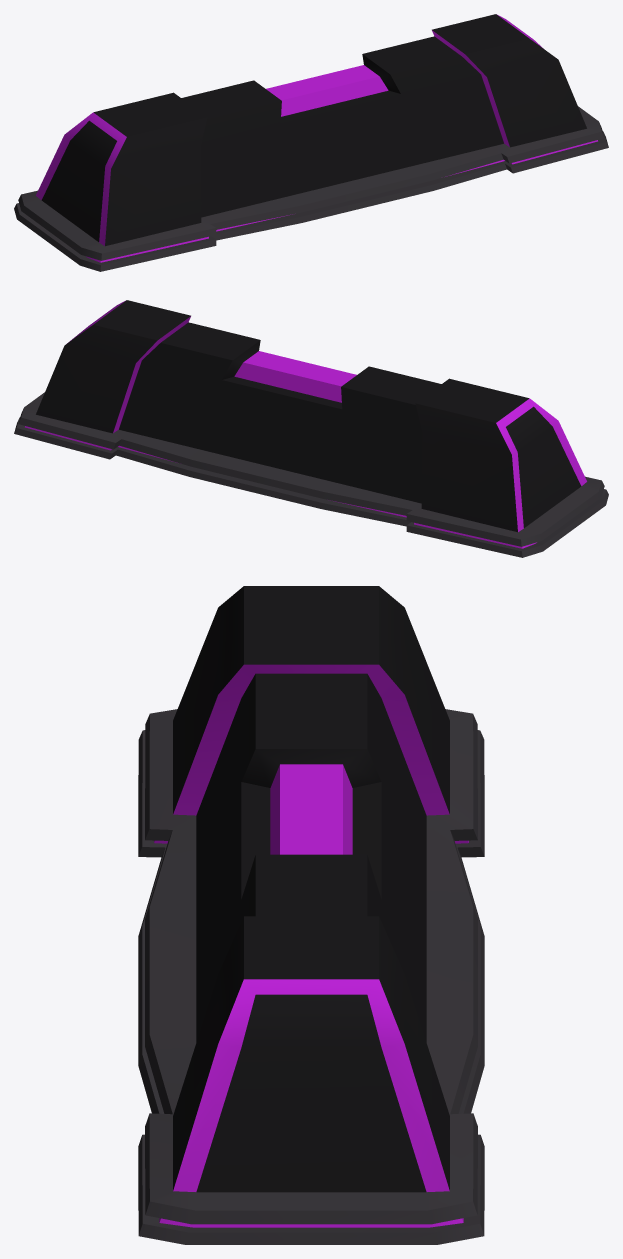
File: Barrier_Double.fbx
The picture shows the model from 3 angles, top to bottom: view 1: azimuth 30°, elevation 25°; view 2: azimuth 150°, elevation 25°; view 3: azimuth 270°, elevation 25°; orthographic projection. The views are drawn at different scales.
Parts seen in each view (by area): view 1: Barrier_Double1; view 2: Barrier_Double1; view 3: Barrier_Double1.
Part boxes in pixels (box(x1,y1,x2,y2)): Barrier_Double1: box(14, 14, 608, 271); Barrier_Double1: box(14, 300, 608, 557); Barrier_Double1: box(138, 586, 484, 1244).
Size of the model in its own units: 508 by 97.05 by 145.
